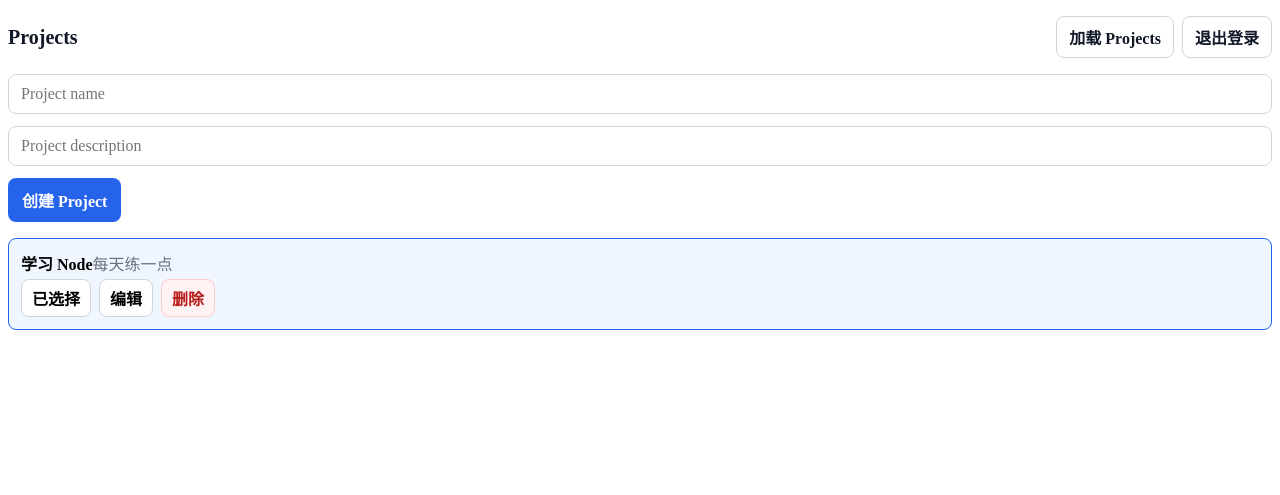
Test: ProjectListPanel › 点击编辑后显示 Project 编辑表单
Step 1. Click the button "编辑" → (126, 298), box [99, 279, 153, 317]
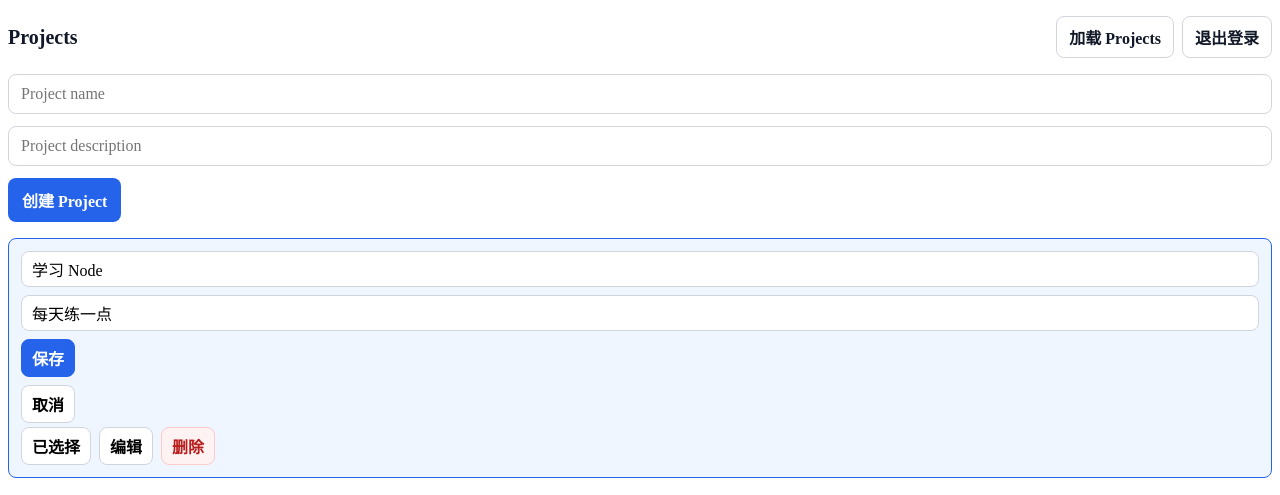
Expected: the 1st field named "editingProjectName" holds "学习 Node", [21, 251, 1259, 287]
Expected: the 2nd field named "editingProjectDescription" holds "每天练一点", [21, 295, 1259, 331]
Expected: the text "保存" is shown, [21, 339, 75, 377]
